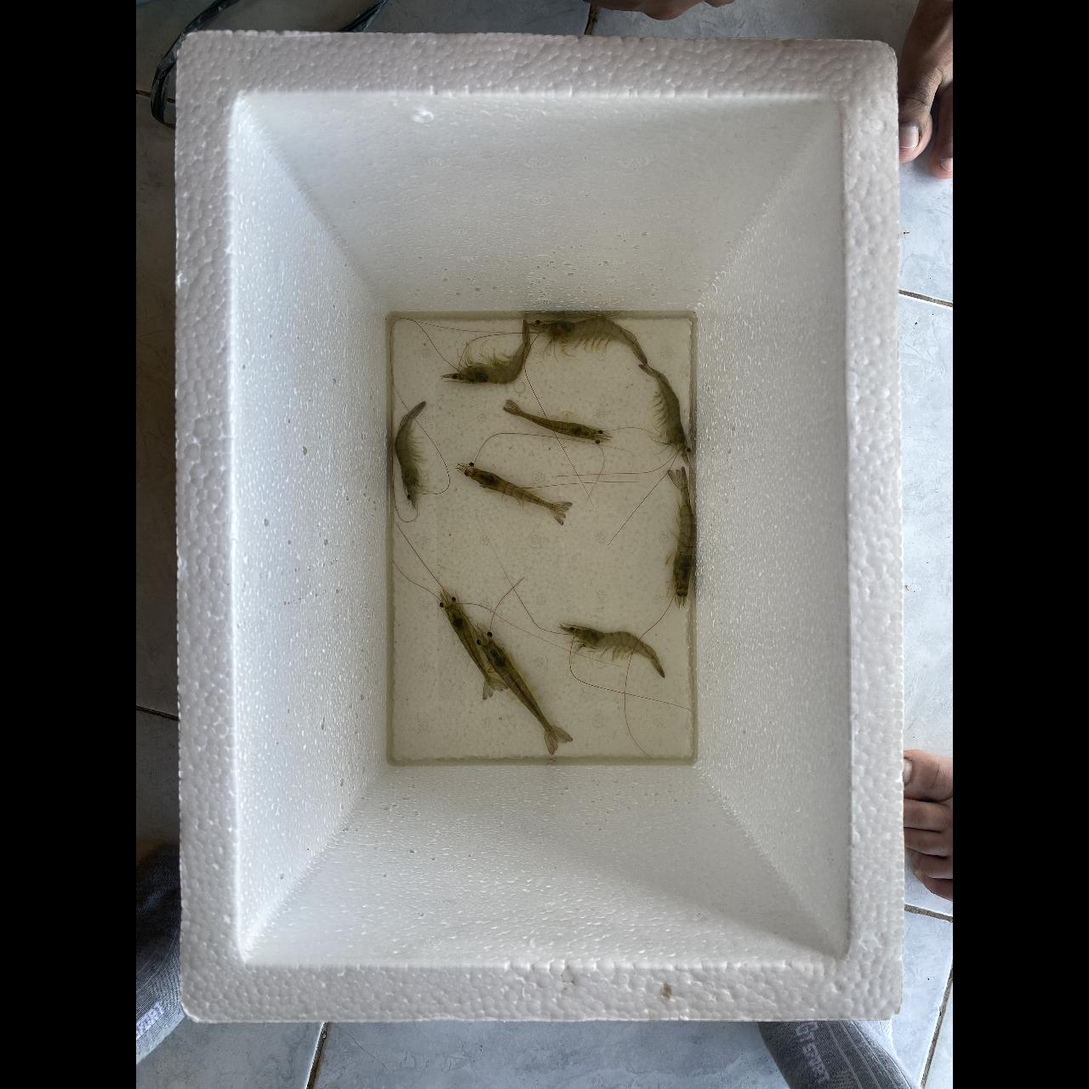side_shrimp: (462, 319, 531, 383), (550, 318, 648, 362), (584, 630, 665, 677), (643, 366, 686, 447), (395, 401, 425, 484)
top_shrimp: (485, 642, 557, 742), (448, 607, 495, 691), (474, 470, 564, 511), (506, 404, 592, 439), (675, 474, 696, 587)
